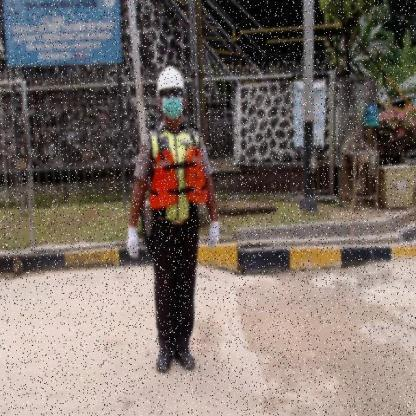boots: (156, 348, 174, 375), (174, 350, 197, 370)
gloves: (125, 224, 141, 261), (206, 219, 221, 251)
goggles: (161, 89, 182, 99)
helmet: (156, 65, 186, 91)
mask: (162, 99, 183, 119)
vest: (148, 146, 209, 210)
